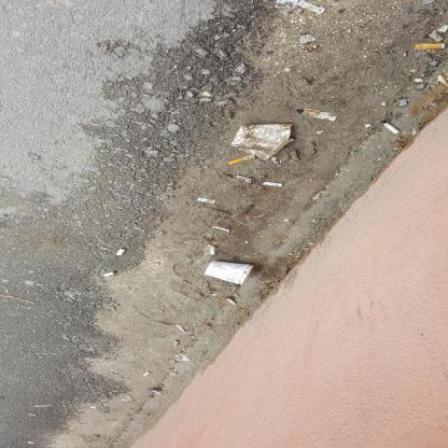Cigarette: (296, 111, 338, 123), (298, 2, 327, 15), (228, 156, 260, 166), (383, 121, 401, 135), (225, 298, 238, 306), (264, 183, 284, 188), (117, 249, 127, 257), (151, 389, 163, 395), (104, 273, 118, 278), (176, 326, 187, 332), (211, 247, 216, 256), (145, 372, 153, 377), (175, 342, 181, 348)
Cup: (232, 126, 294, 162), (206, 262, 251, 285), (240, 266, 255, 286)
Paper: (415, 44, 447, 52)
Unlabeled litter: (275, 2, 299, 10), (301, 34, 317, 45), (272, 156, 284, 168), (211, 227, 231, 233), (197, 199, 216, 205), (236, 177, 252, 183), (123, 400, 134, 402)
